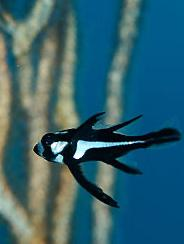Lutjanidae -Snappers-: (30, 106, 182, 209)
